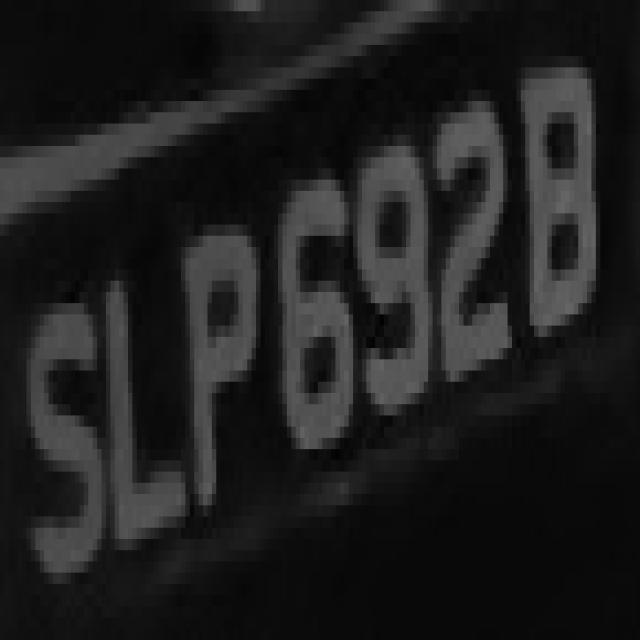2: (428, 68, 517, 404)
6: (278, 146, 353, 472)
9: (348, 112, 432, 438)
B: (508, 34, 614, 337)
L: (101, 202, 181, 573)
P: (181, 168, 260, 528)
S: (18, 258, 110, 595)
